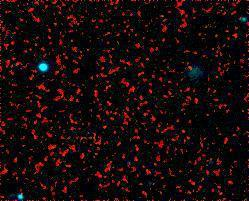star: (147, 55, 177, 85)
